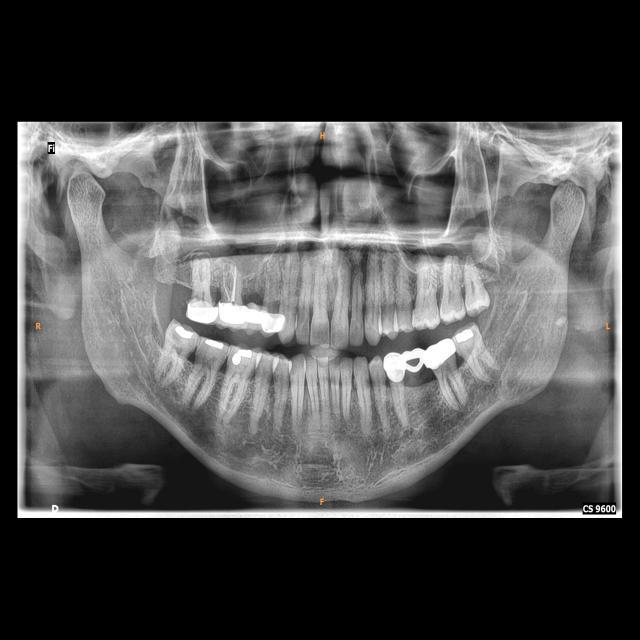dolgu: (227, 349, 256, 370), (170, 324, 200, 342), (202, 336, 227, 352), (452, 330, 478, 345)
kanal-tedavisi: (221, 265, 242, 305)
kaplama: (185, 294, 220, 326), (426, 333, 457, 369), (385, 349, 407, 392), (215, 298, 245, 328), (266, 308, 288, 336)
kopru: (398, 344, 443, 380), (236, 296, 276, 329)
